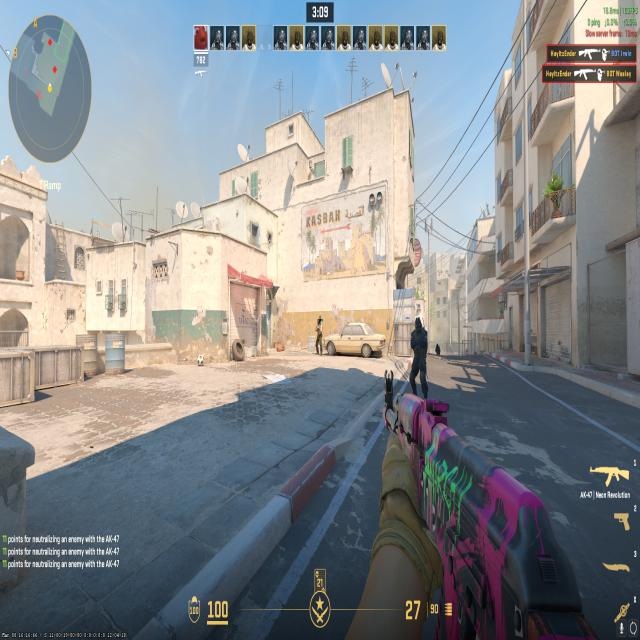ct: (406, 312, 432, 399), (433, 337, 441, 356)
t: (313, 318, 324, 354)
